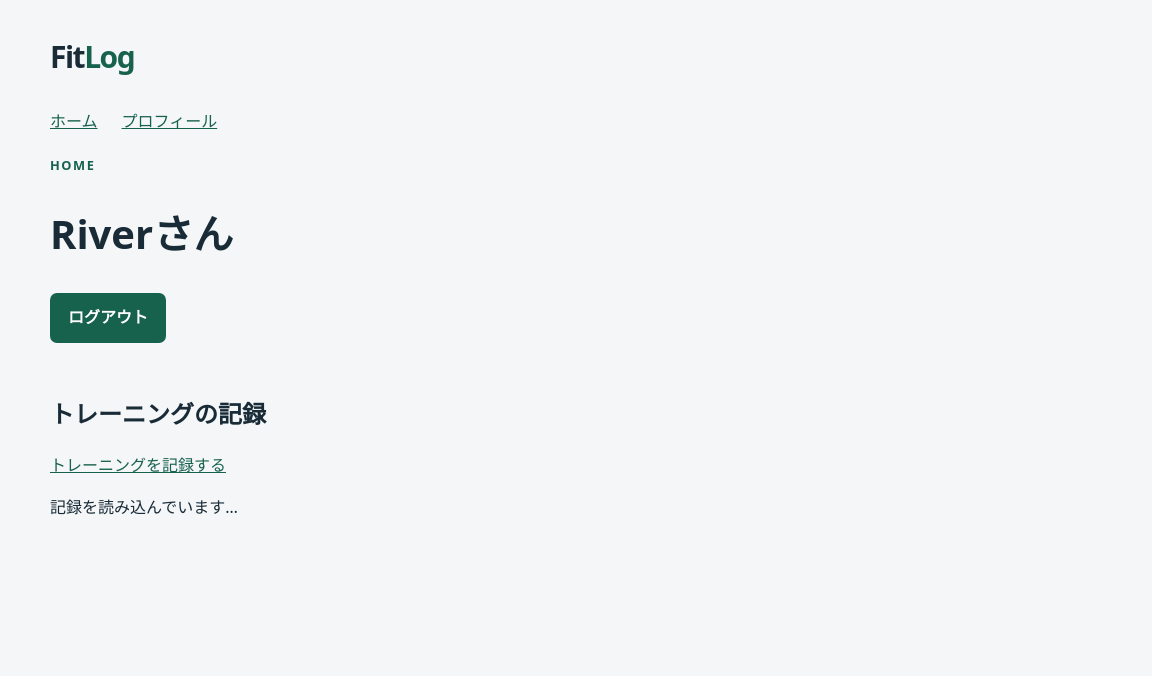
Scenario: destroys an old draft when a different actor is detected at save time
The width and height of the screenshot is (1152, 676).
Click the link "プロフィール" at (169, 122), box x1=122 y1=109 x2=217 y2=135
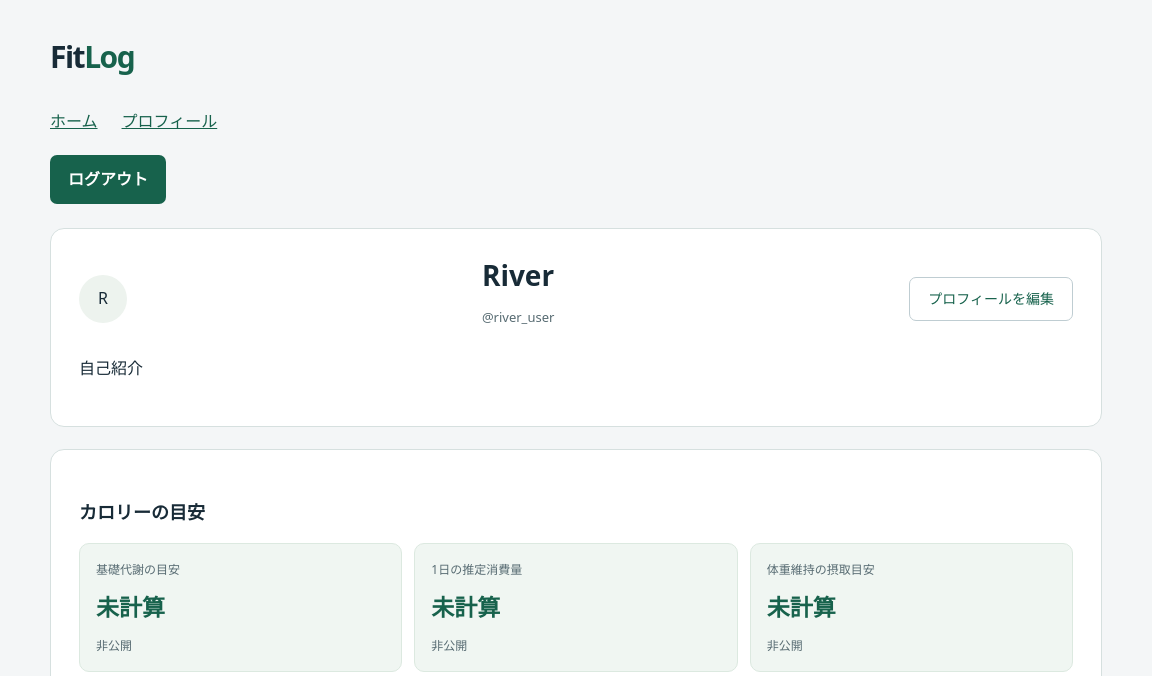
Click the link "プロフィールを編集" at (991, 299), box x1=909 y1=277 x2=1073 y2=321
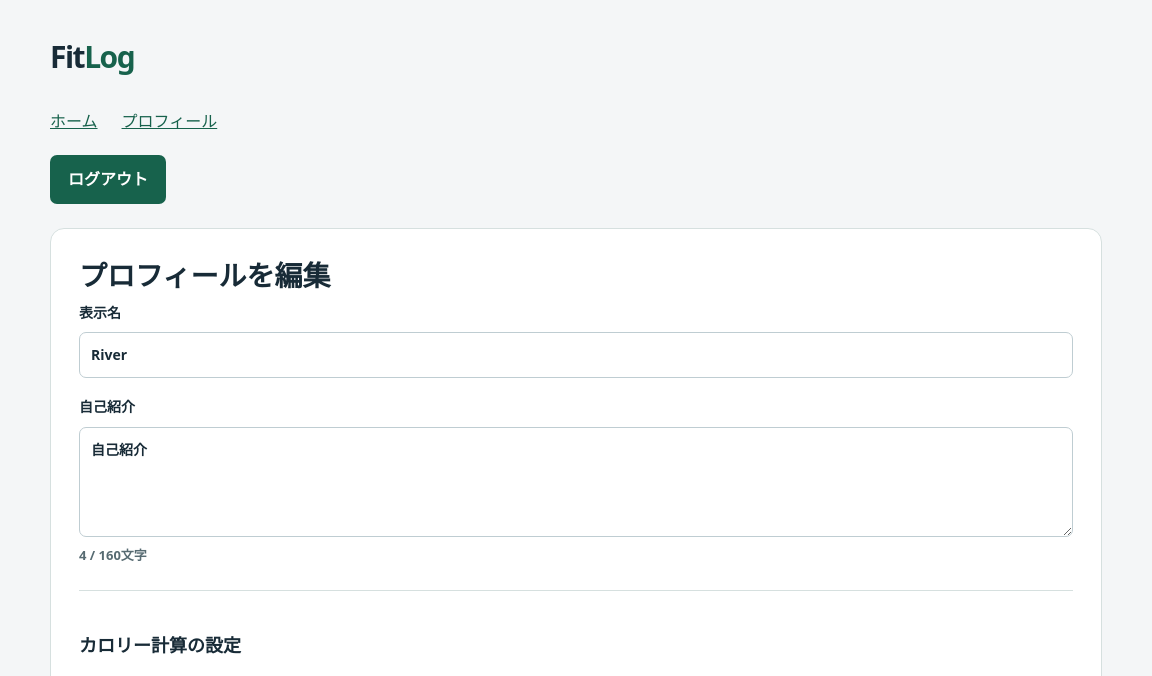
Replace the text in the text box labelled "自己紹介" with "下書き秘密marker" at (576, 482), box x1=79 y1=427 x2=1073 y2=537
(page scrolled)
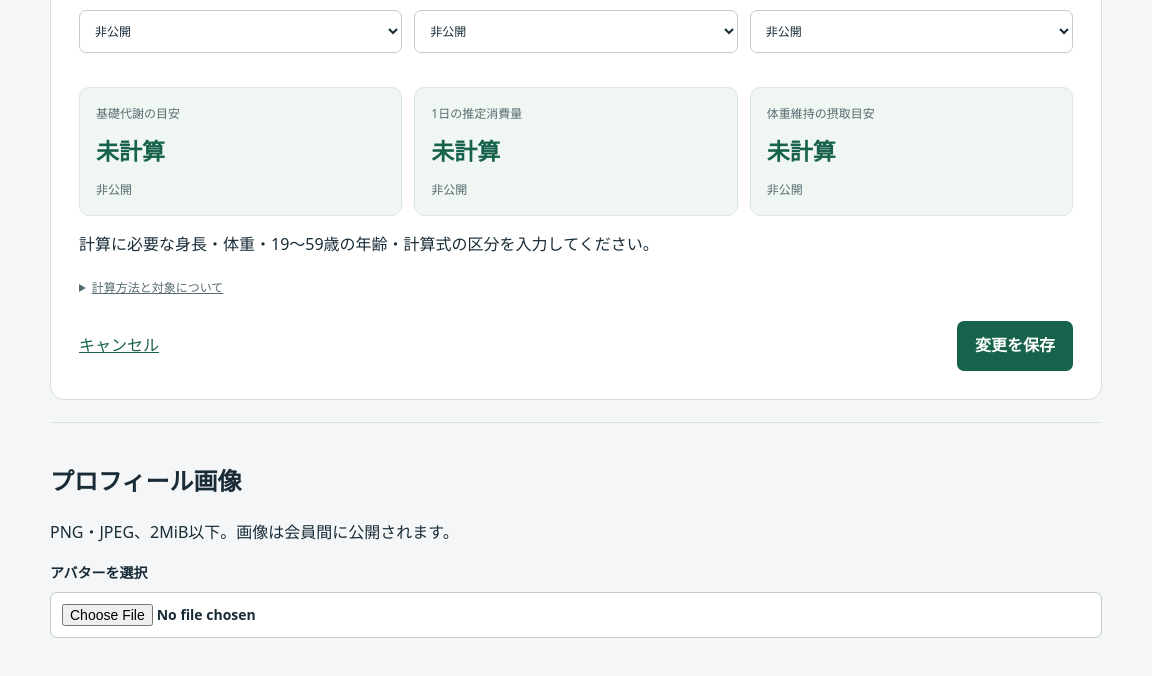
Click the button "変更を保存" at (1015, 346), box x1=957 y1=321 x2=1073 y2=371
(page scrolled)
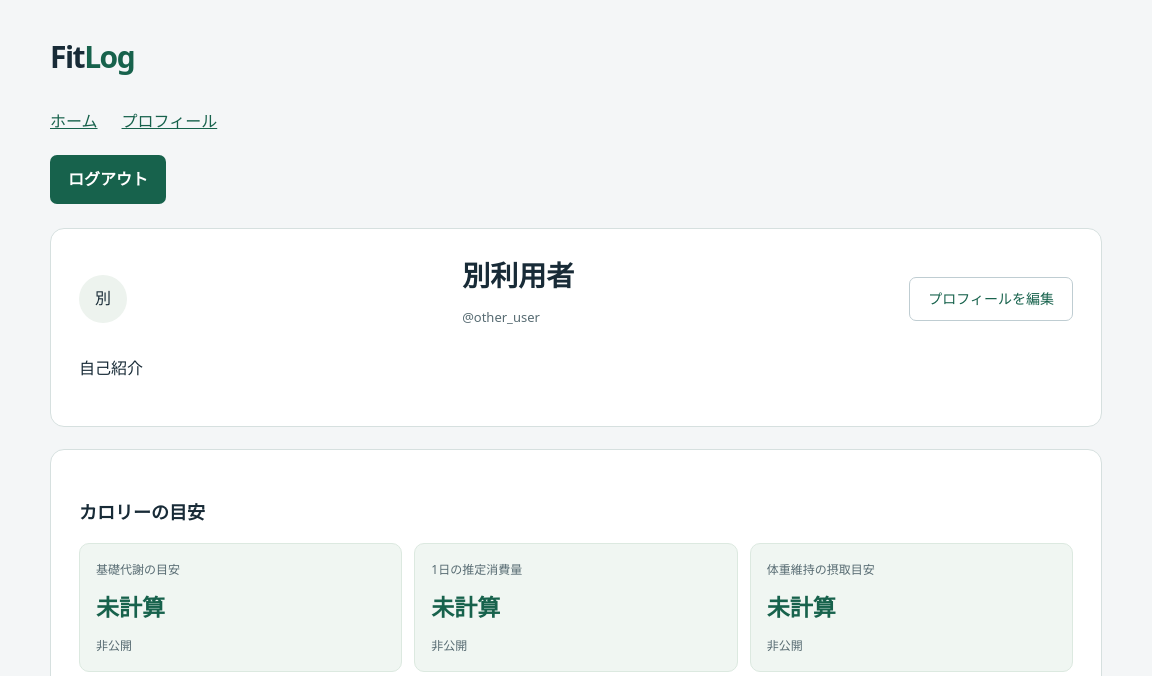
Expected: the heading "別利用者" is shown, x1=462 y1=257 x2=574 y2=294
